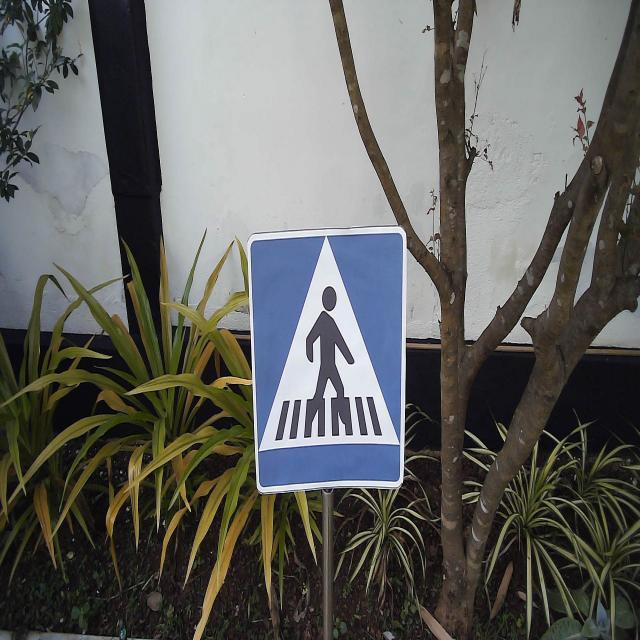crosswalk_sign: (246, 222, 410, 496)
